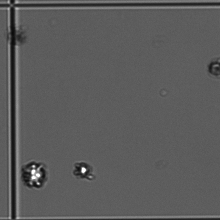Dead Cell: (203, 54, 220, 77)
Living Cell: (69, 157, 101, 196), (18, 157, 52, 192)
